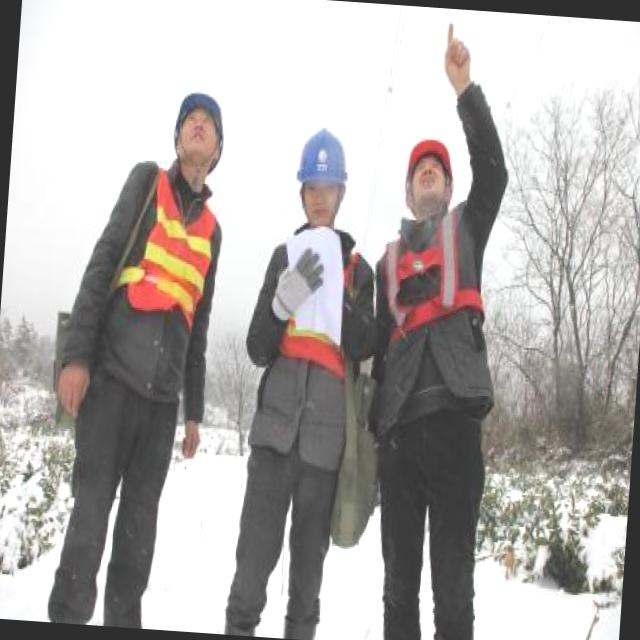helmet: (292, 117, 361, 194)
vest: (370, 190, 494, 364), (126, 154, 222, 338)
